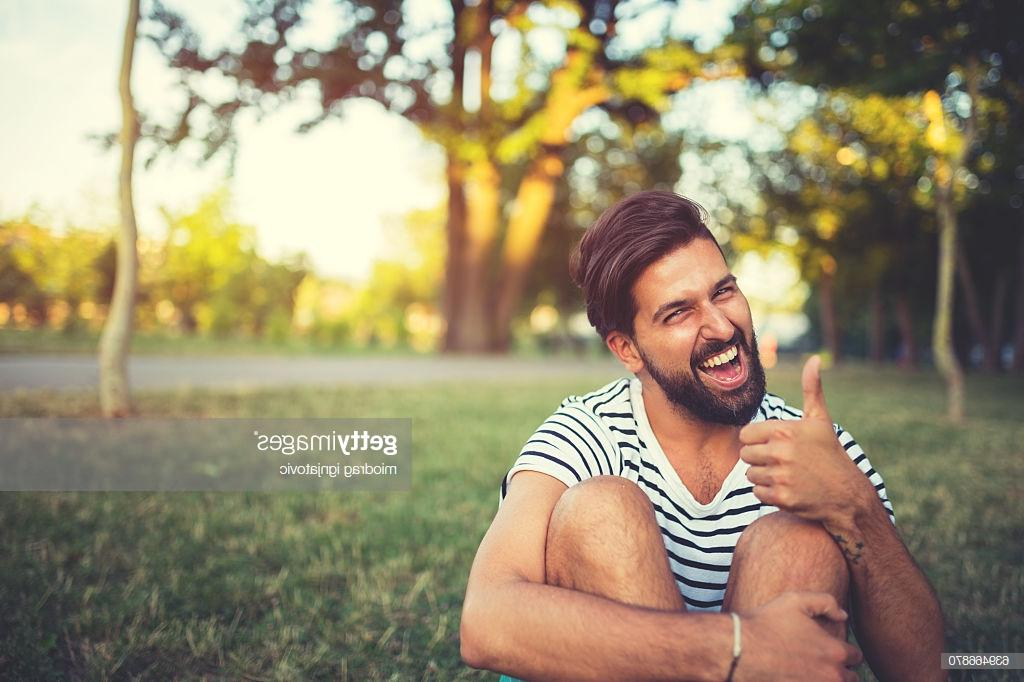thumbsup: (739, 355, 824, 511)
